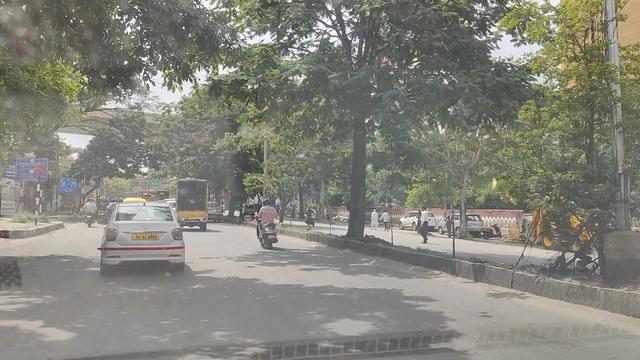LMV: (100, 197, 185, 274), (247, 195, 280, 246)
